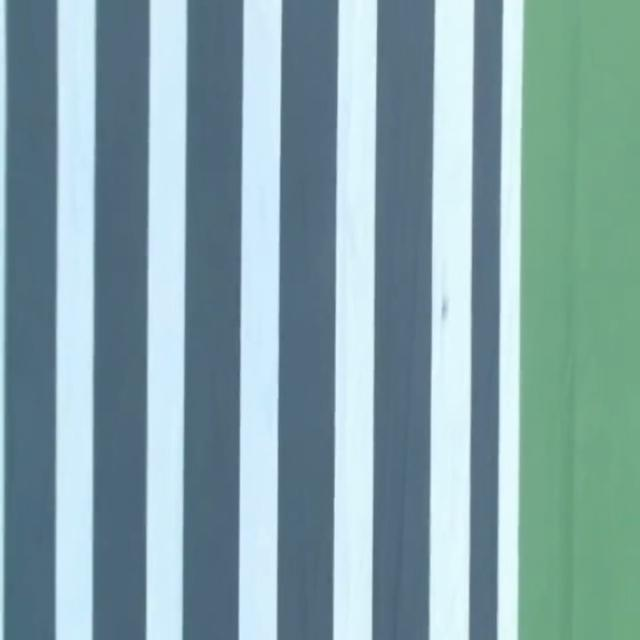right: (497, 0, 524, 639)
